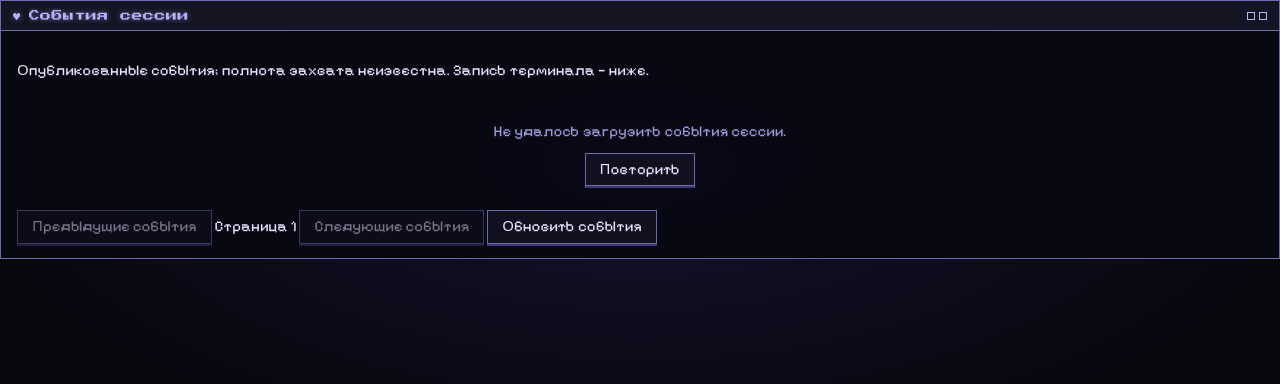
Scenario: история сессии › показывает отказ и позволяет повторить чтение
Check: the text "Не удалось загрузить события сессии." is shown, box [494,122,786,140]
Click the button "Повторить" at x=640, y=169, box [585,152,695,186]
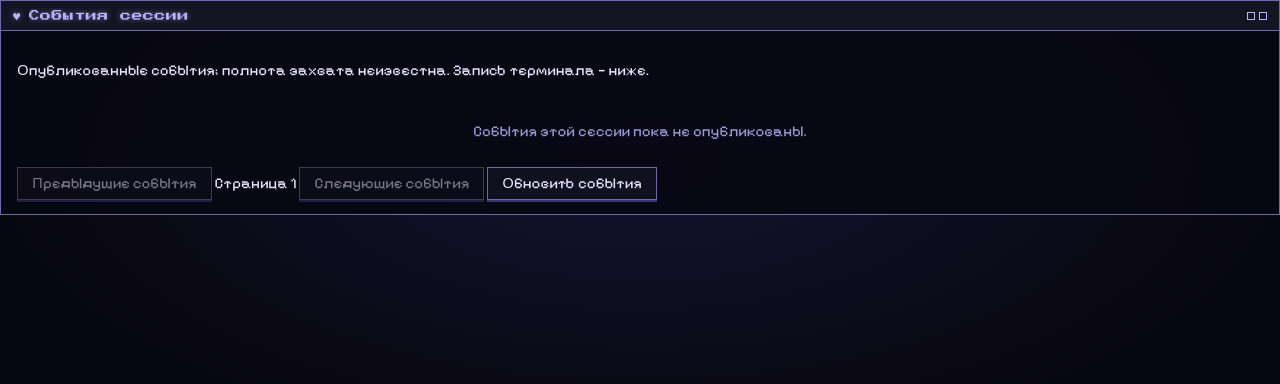
Check: the text "События этой сессии пока не опубликованы." is shown, box [473,122,807,140]
